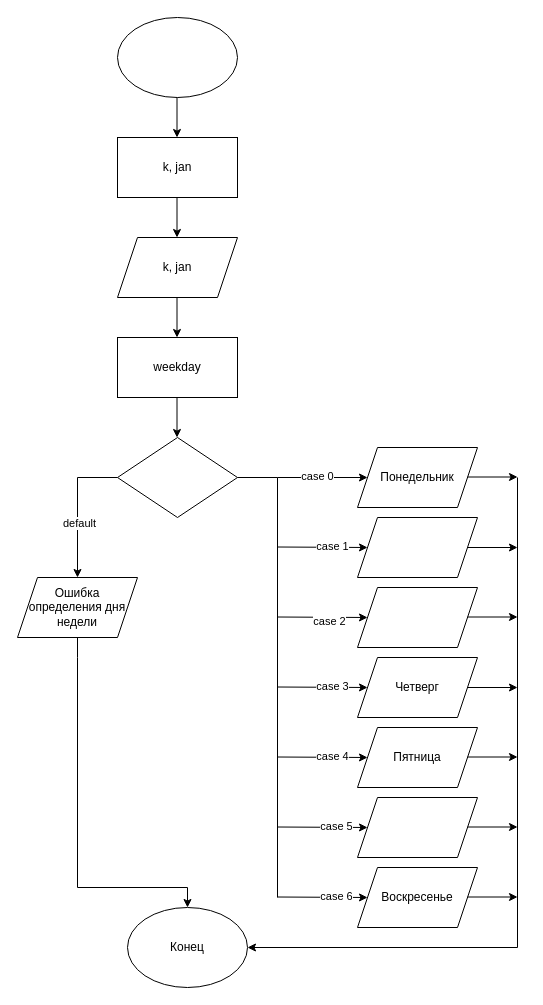
This 543x1005 diagram has some shape labels left out. Here are the shapes that lost their labels. From the top down, the centre of each, then its label:
At (177,57): "Начало".
At (177,477): "switch (weekday)".
At (417,547): "Вторник".
At (417,617): "Среда".
At (417,827): "Суббота".
